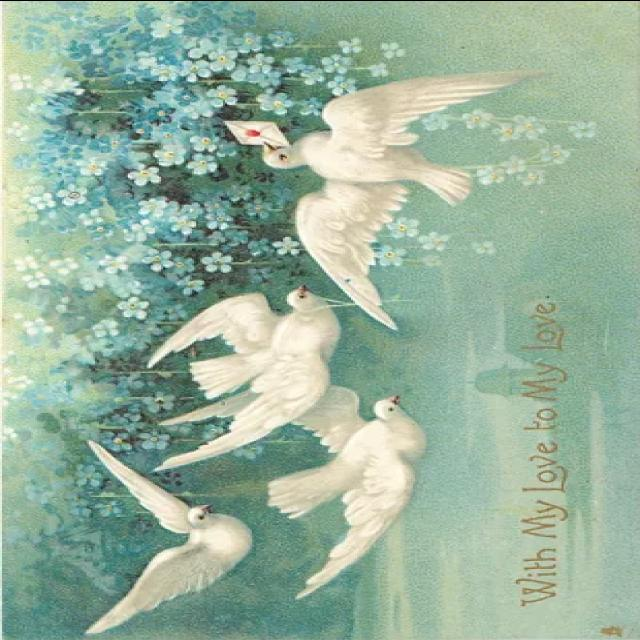pigeon: (259, 49, 532, 328), (84, 435, 261, 640)
